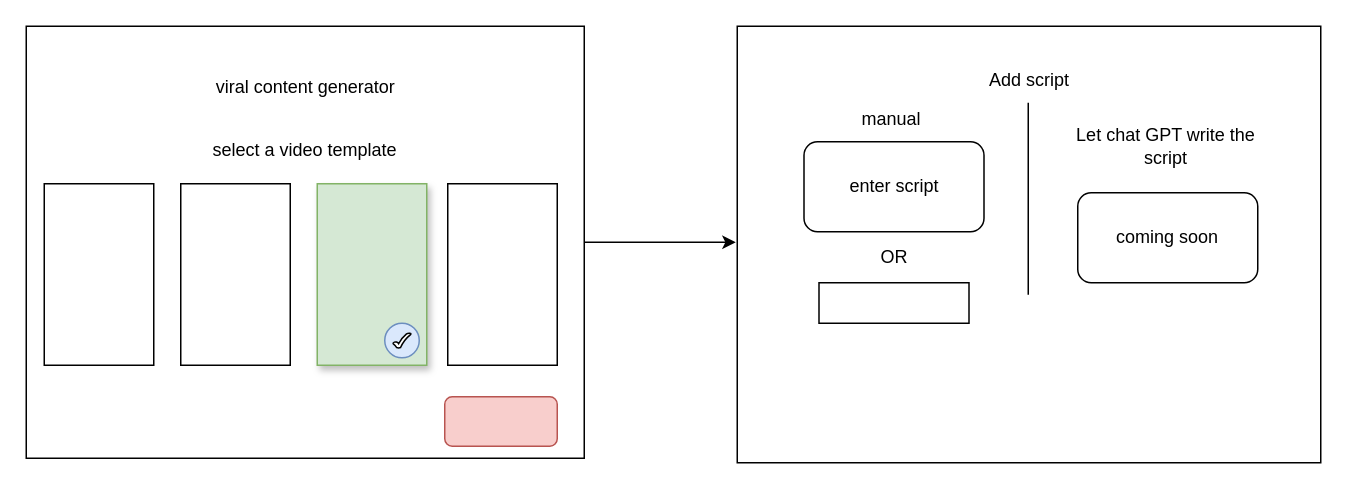
This 1347x489 diagram has some shape labels left out. Each missing label, with the centre of its shape:
Next: point (500, 420)
upload txt file: point (893, 302)
